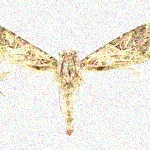Spodoptera litura: (0, 22, 149, 138)
